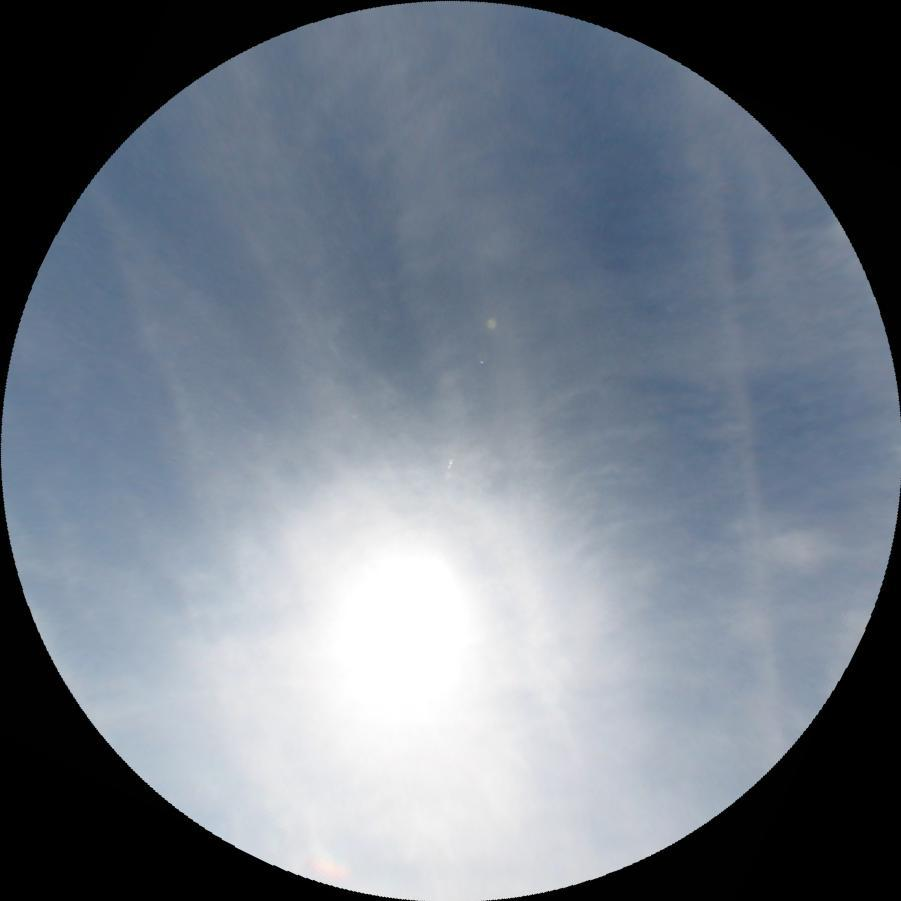contrail veryold: (632, 30, 843, 769)
sun: (312, 532, 491, 730)
